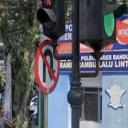NoVirarU: (32, 37, 62, 96)
